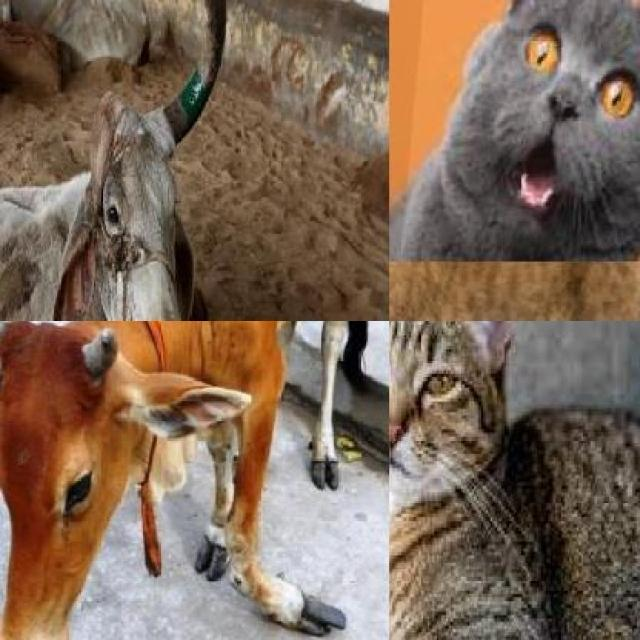cat: (389, 320, 640, 640), (389, 0, 640, 262)
cow: (0, 320, 389, 640), (0, 103, 214, 320)
injured: (214, 374, 355, 640)
